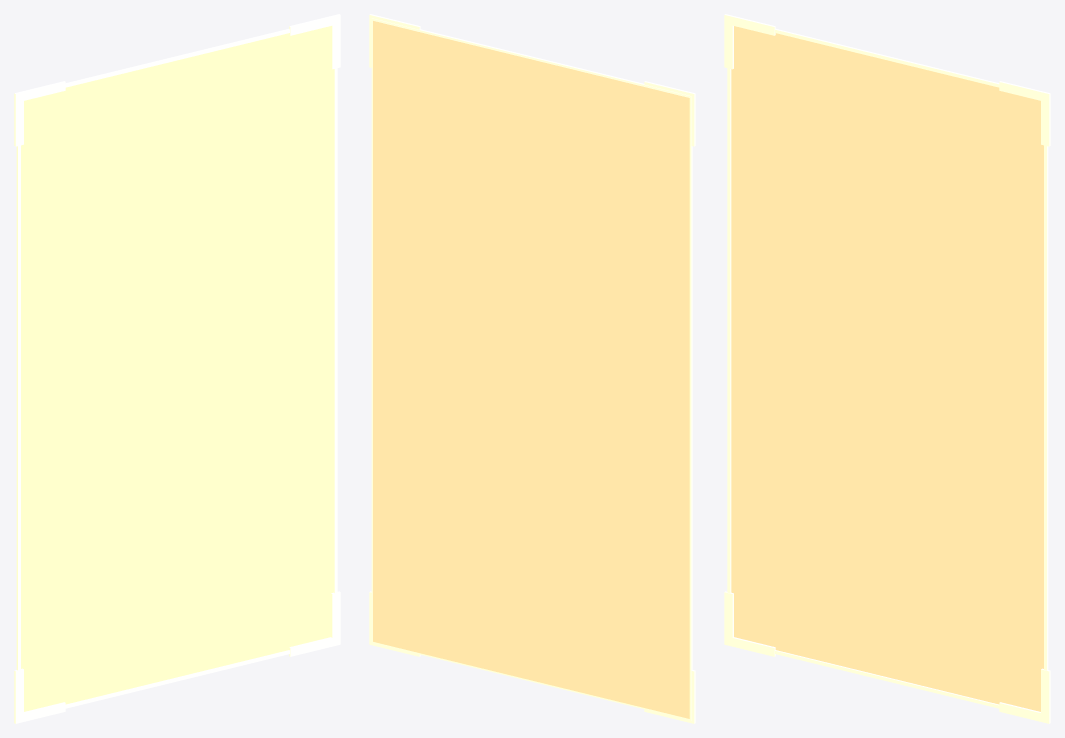
File: slot_outline_12hp.glb
3 renders of one model, left to right at view 1: azimuth 30°, elevation 25°; view 2: azimuth 150°, elevation 25°; view 3: azimuth 330°, elevation 25°, orthographic.
Parts seen in each view (by area): view 1: SlotOutline_Fill, SlotOutline_Edge, SlotOutline_Corner3, SlotOutline_Corner2, SlotOutline_Corner0, SlotOutline_Corner1; view 2: SlotOutline_Fill, SlotOutline_Edge; view 3: SlotOutline_Fill, SlotOutline_Edge, SlotOutline_Corner2, SlotOutline_Corner3, SlotOutline_Corner1, SlotOutline_Corner0.
Boxes of the visible parts, box(x1,y1,x2,y2) form: SlotOutline_Fill: box(21, 26, 333, 711); SlotOutline_Edge: box(16, 29, 337, 708); SlotOutline_Corner3: box(14, 81, 65, 146); SlotOutline_Corner2: box(289, 14, 340, 69); SlotOutline_Corner0: box(14, 668, 65, 723); SlotOutline_Corner1: box(289, 591, 340, 656); SlotOutline_Fill: box(373, 20, 689, 718); SlotOutline_Edge: box(371, 18, 692, 720); SlotOutline_Fill: box(731, 26, 1043, 711); SlotOutline_Edge: box(727, 29, 1048, 708); SlotOutline_Corner2: box(999, 81, 1050, 146); SlotOutline_Corner3: box(724, 14, 775, 69); SlotOutline_Corner1: box(999, 668, 1050, 723); SlotOutline_Corner0: box(724, 591, 775, 656).
Size of the model in its own units: 0.6216 by 1.15 by 0.006.
